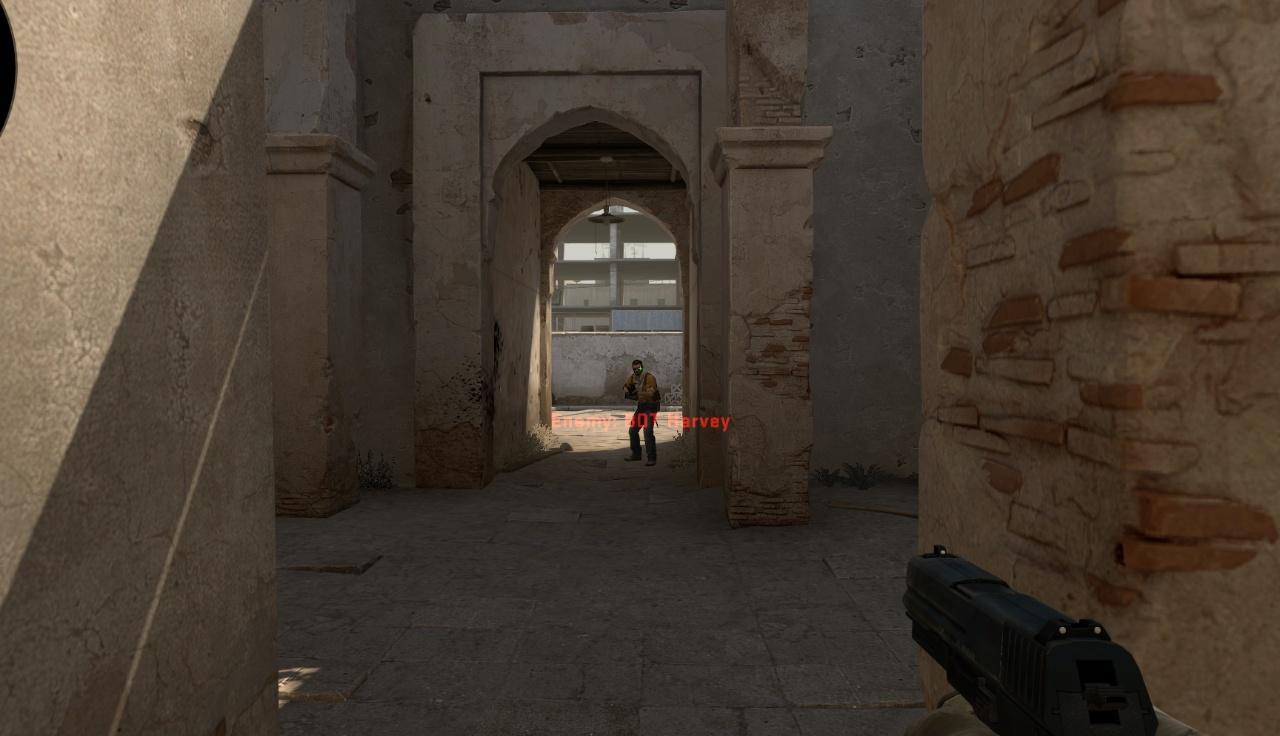pistol: (906, 548, 1160, 736)
tt: (626, 359, 657, 466)
tthead: (632, 360, 642, 376)
